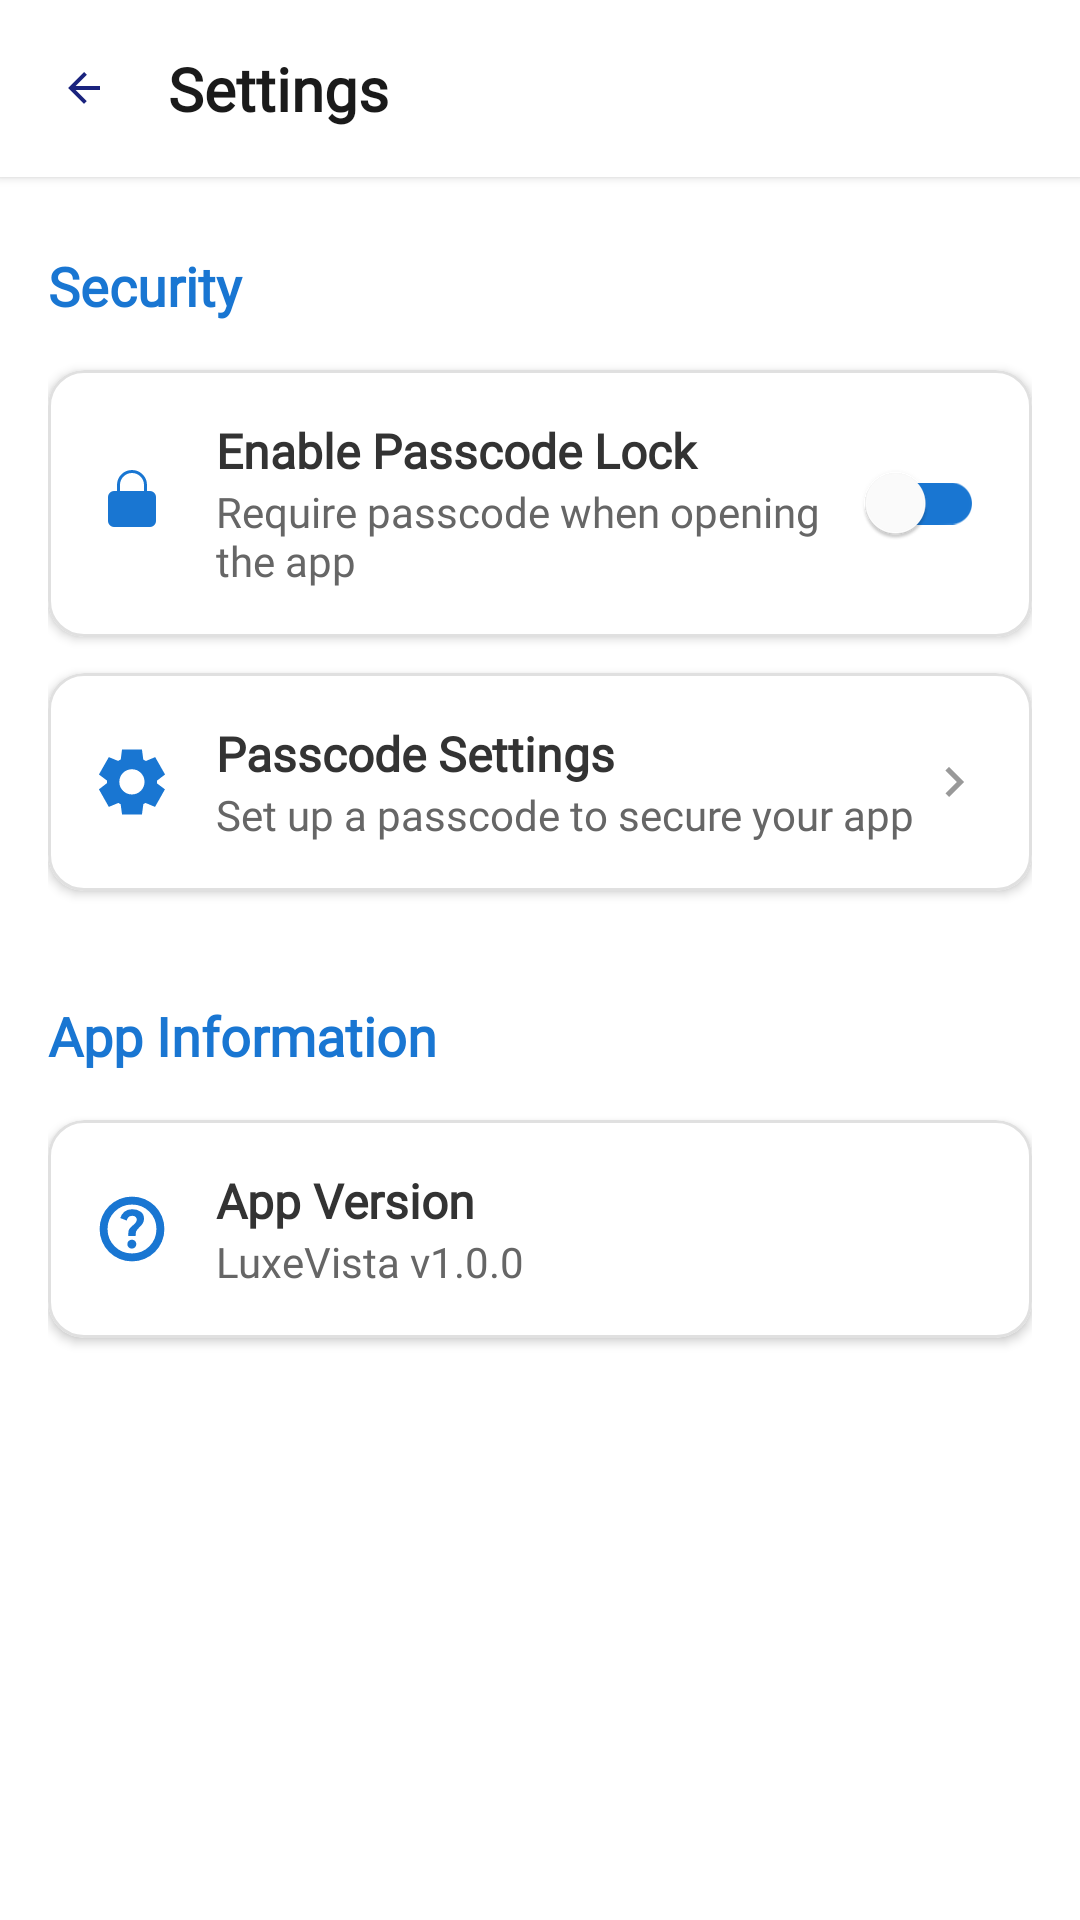

Point at icon controls on the screen. Image size 1080 x 1920, points as (x,y).
Arrow: (954,782)
Back: (84,88)
